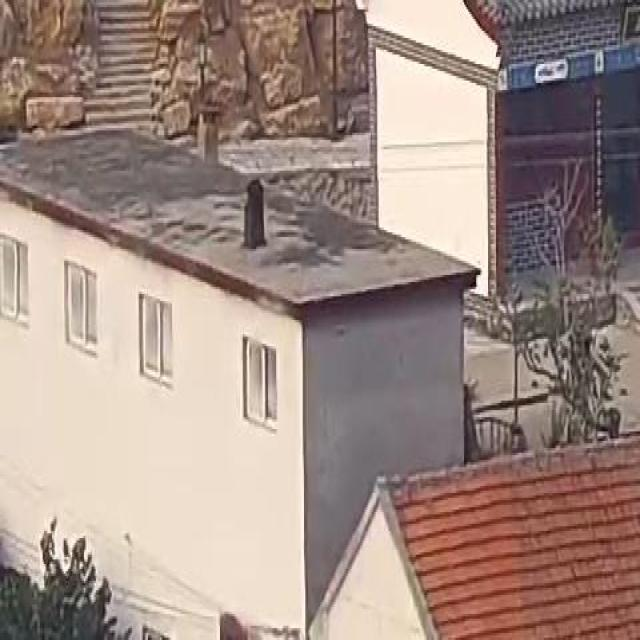other: (393, 470, 618, 599)
